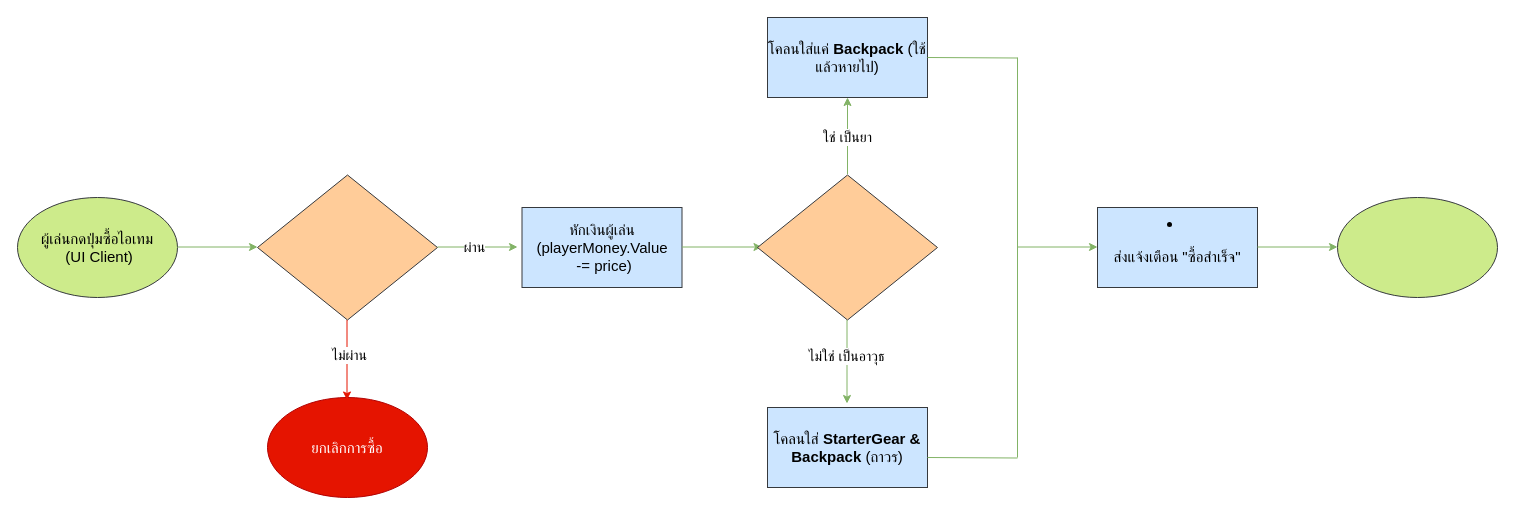
This 1515x515 diagram has some shape labels left out. Here are the shapes that lost their labels. From the top down, the centre of each, then its label:
At point 347,247: "เงินพอไหม? มีของซ้ำไหม?".
At point 847,247: "เช็คประเภทไอเทม (Potion หรือไม่?)".
At point 1417,247: "จบการทำงานระบบร้านค้า".
